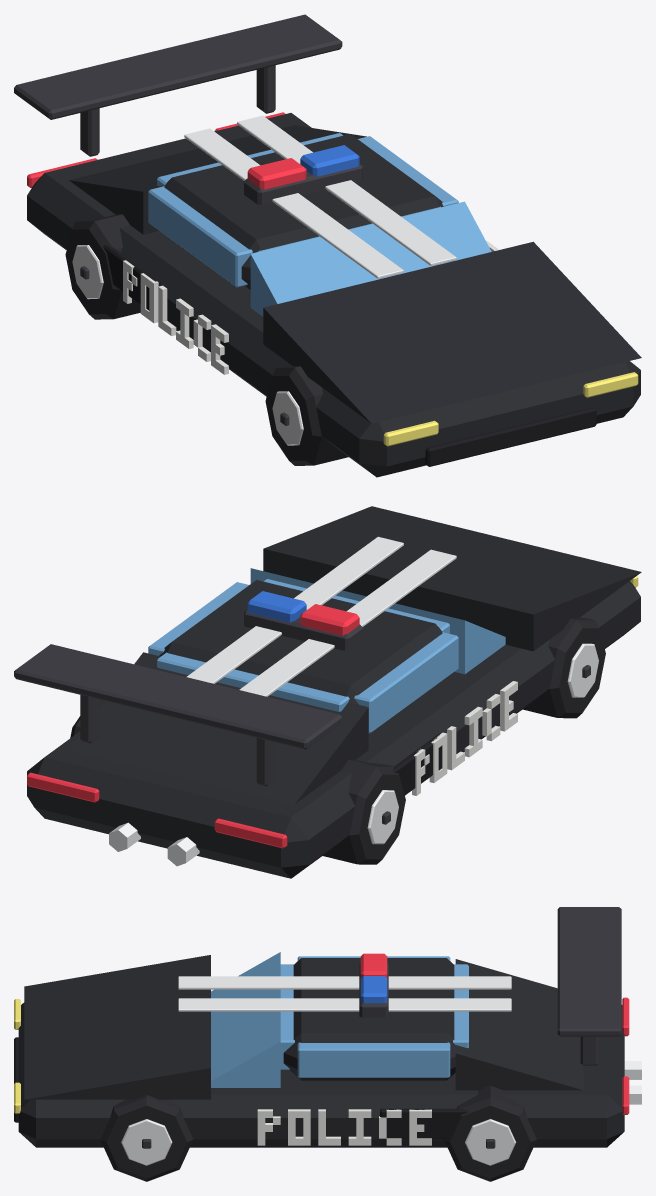
File: PoliceInterceptor.fbx
3 renders of one model, top to bottom at view 1: azimuth 30°, elevation 25°; view 2: azimuth 150°, elevation 25°; view 3: azimuth 270°, elevation 25°, orthographic. The views are drawn at different scales.
Parts seen in each view (by area): view 1: PoliceInterceptor, PoliceInterceptor_WheelFR, PoliceInterceptor_WheelBR; view 2: PoliceInterceptor, PoliceInterceptor_WheelBR, PoliceInterceptor_WheelFR; view 3: PoliceInterceptor, PoliceInterceptor_WheelBL, PoliceInterceptor_WheelFL.
Part boxes in pixels (x1,y1,x2,y2): PoliceInterceptor: (14, 14, 641, 477); PoliceInterceptor_WheelFR: (265, 365, 348, 465); PoliceInterceptor_WheelBR: (65, 214, 140, 319); PoliceInterceptor: (14, 506, 641, 878); PoliceInterceptor_WheelBR: (323, 759, 405, 864); PoliceInterceptor_WheelFR: (523, 617, 605, 718); PoliceInterceptor: (14, 907, 641, 1147); PoliceInterceptor_WheelBL: (444, 1085, 536, 1181); PoliceInterceptor_WheelFL: (100, 1095, 193, 1181).
Bounding box in the file's own units: 5.22 × 2.94 × 10.78.
Materials: 1 (1 with a texture image).
